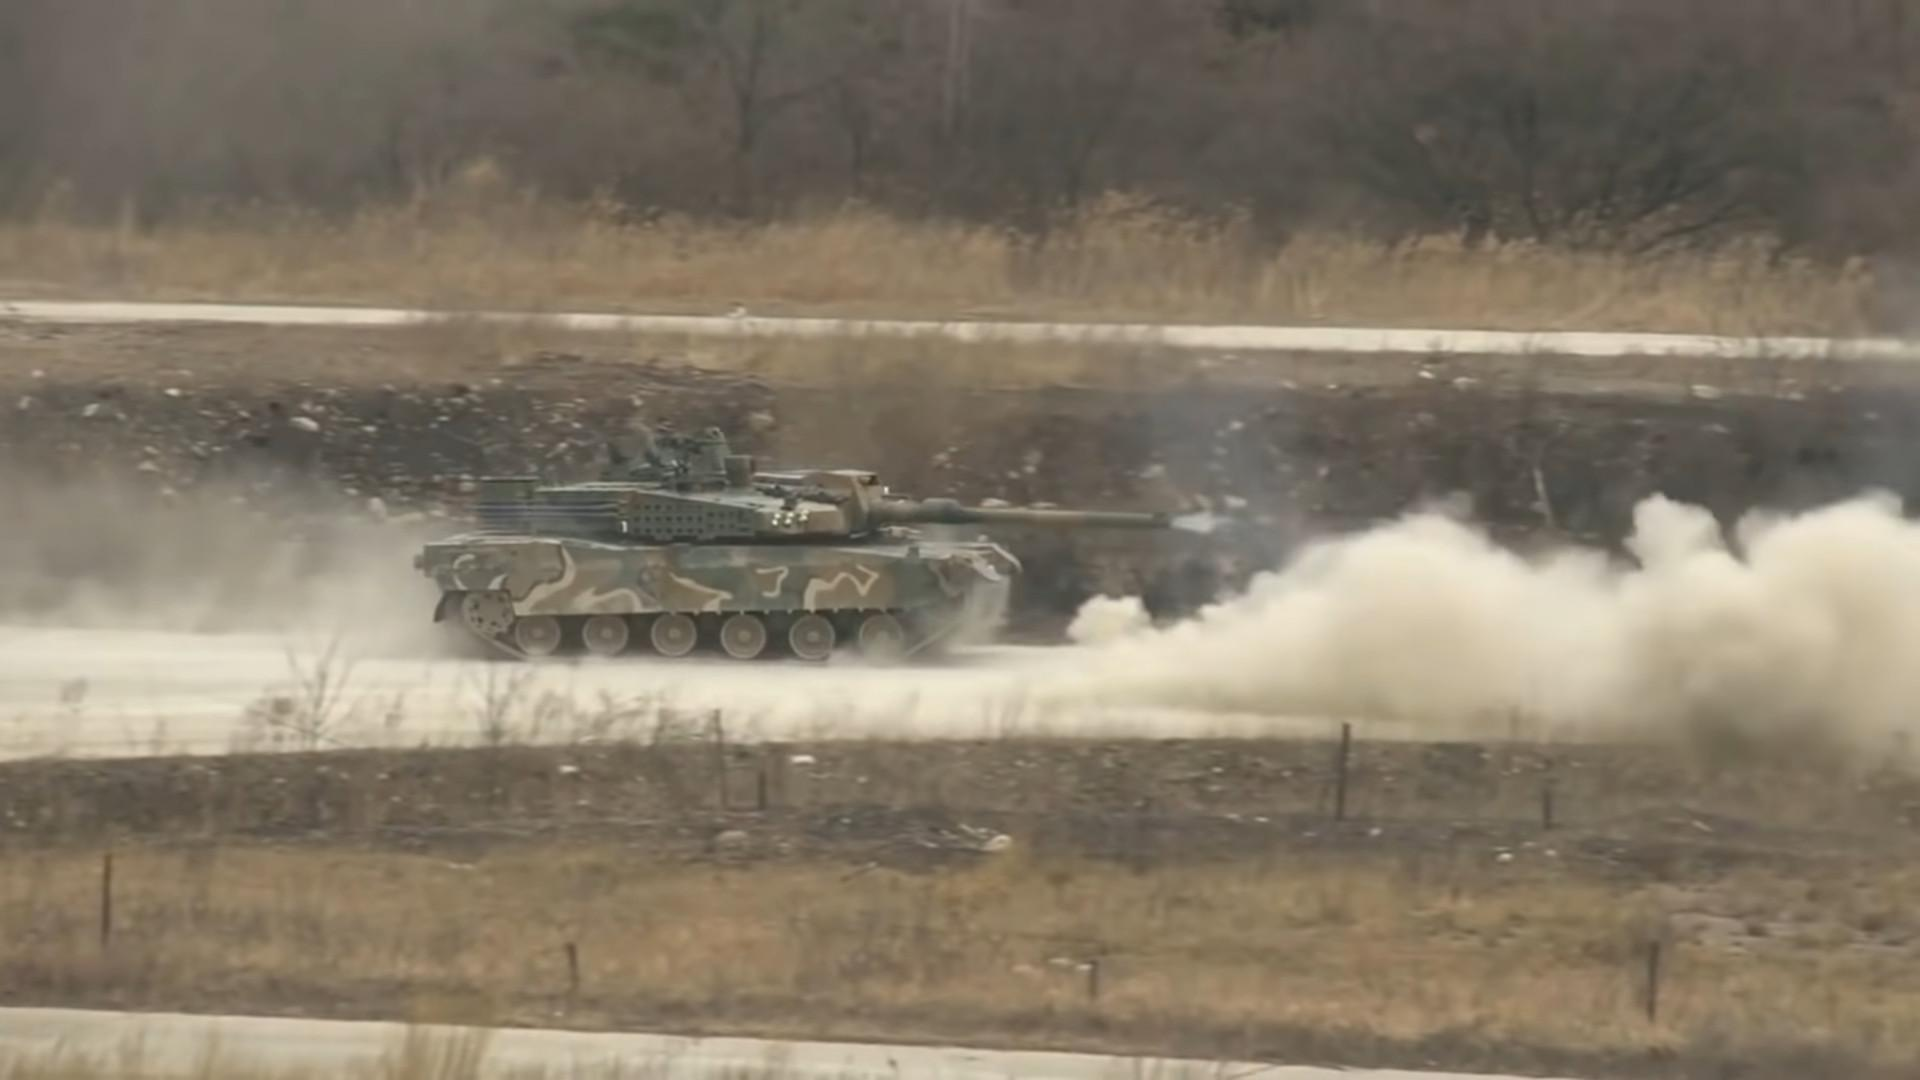tank: (414, 427, 1175, 668)
